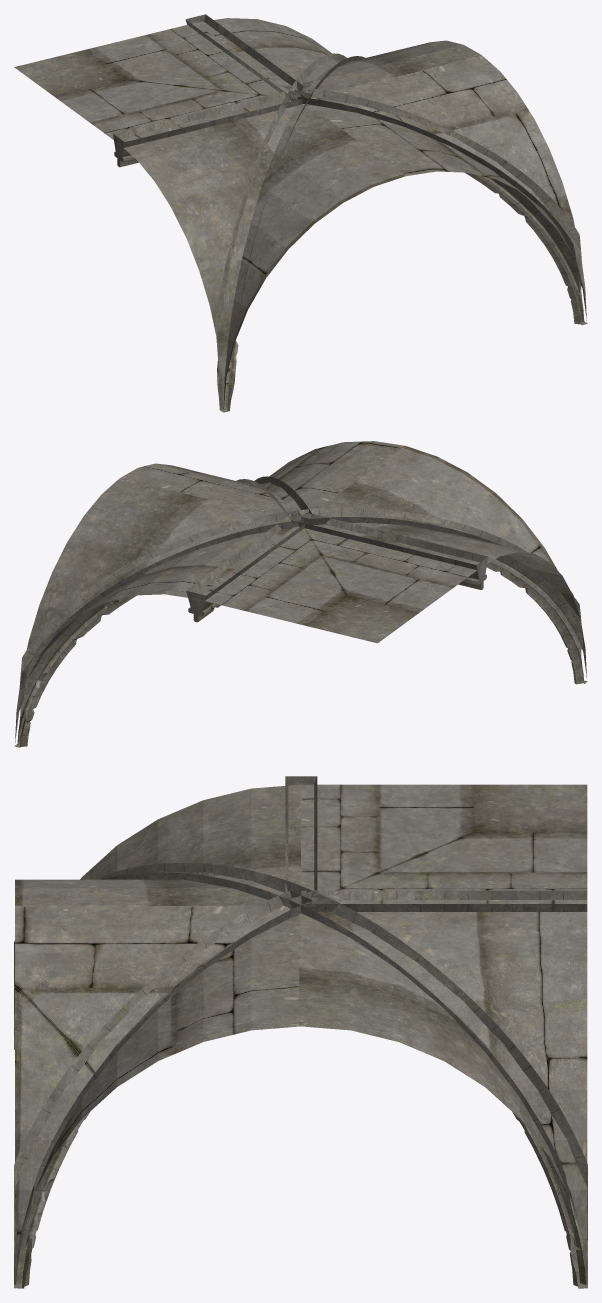
File: Roof08.fbx
3 renders of one model, top to bottom at view 1: azimuth 30°, elevation 25°; view 2: azimuth 150°, elevation 25°; view 3: azimuth 270°, elevation 25°, orthographic. The views are drawn at different scales.
Parts seen in each view (by area): view 1: TO14_SM_MP_Roof08.mo; view 2: TO14_SM_MP_Roof08.mo; view 3: TO14_SM_MP_Roof08.mo.
Part boxes in pixels (left/top/right/bottom): TO14_SM_MP_Roof08.mo: left=14, top=14, right=587, bottom=412; TO14_SM_MP_Roof08.mo: left=14, top=441, right=587, bottom=747; TO14_SM_MP_Roof08.mo: left=14, top=776, right=587, bottom=1288.
Bounding box in the file's own units: 502 × 262 × 501.
